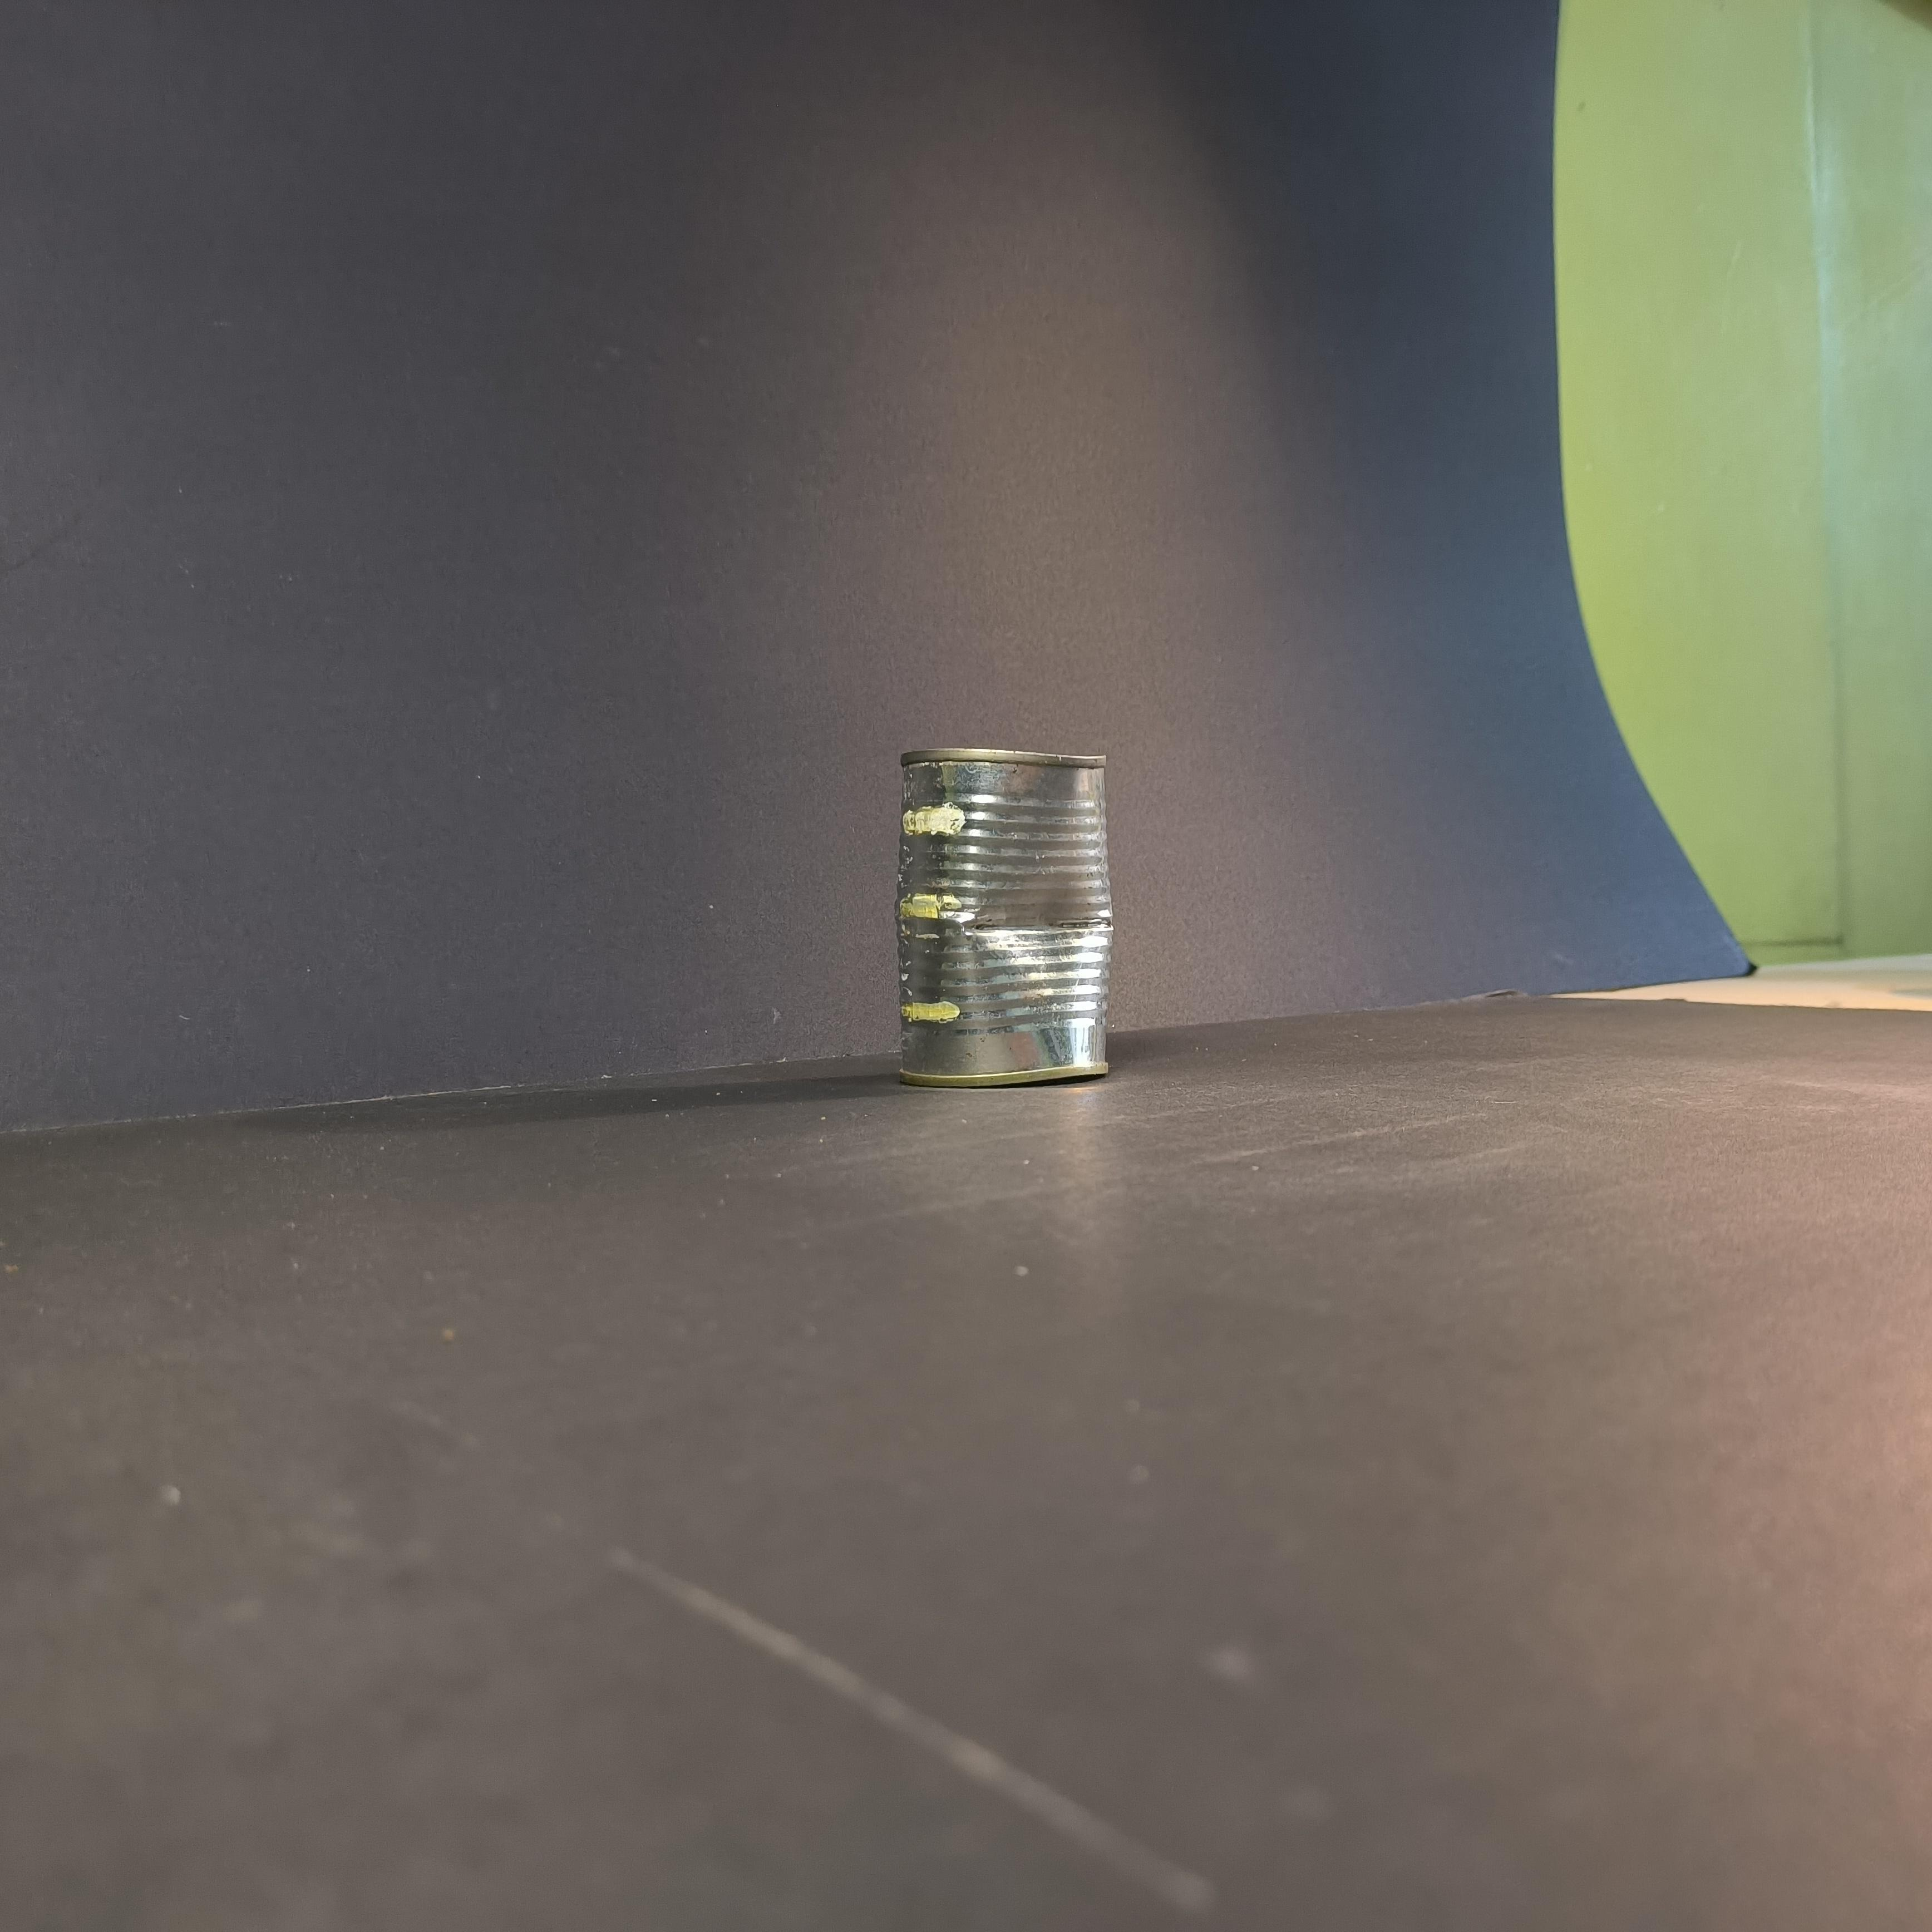Dented: (851, 713, 1143, 1102)
